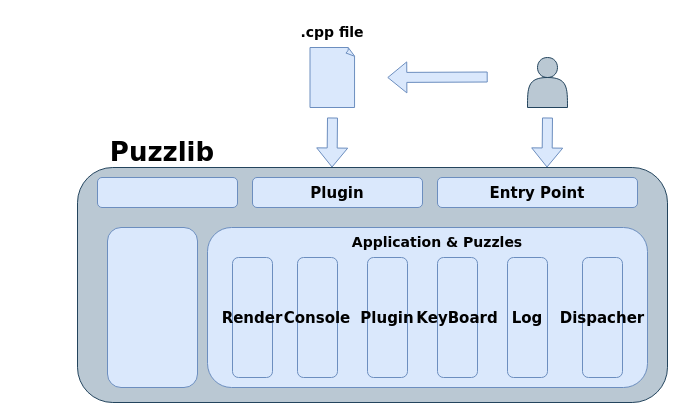
The diagram is 685 pixels wide and 420 high, and some of its shapes have lost their labels. Here are the shapes that lost their labels. From the top down, the centre of each, then its label:
pixel 167 192: Event Queue
pixel 152 307: Core
